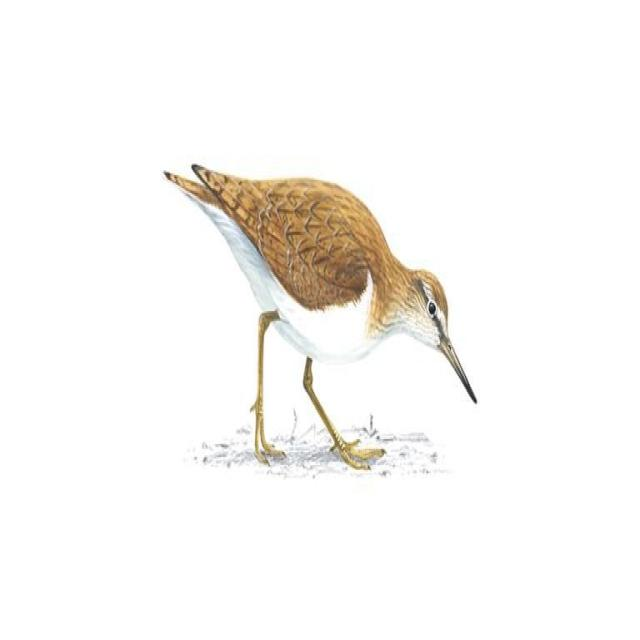Sandpiper: (163, 153, 479, 471)
